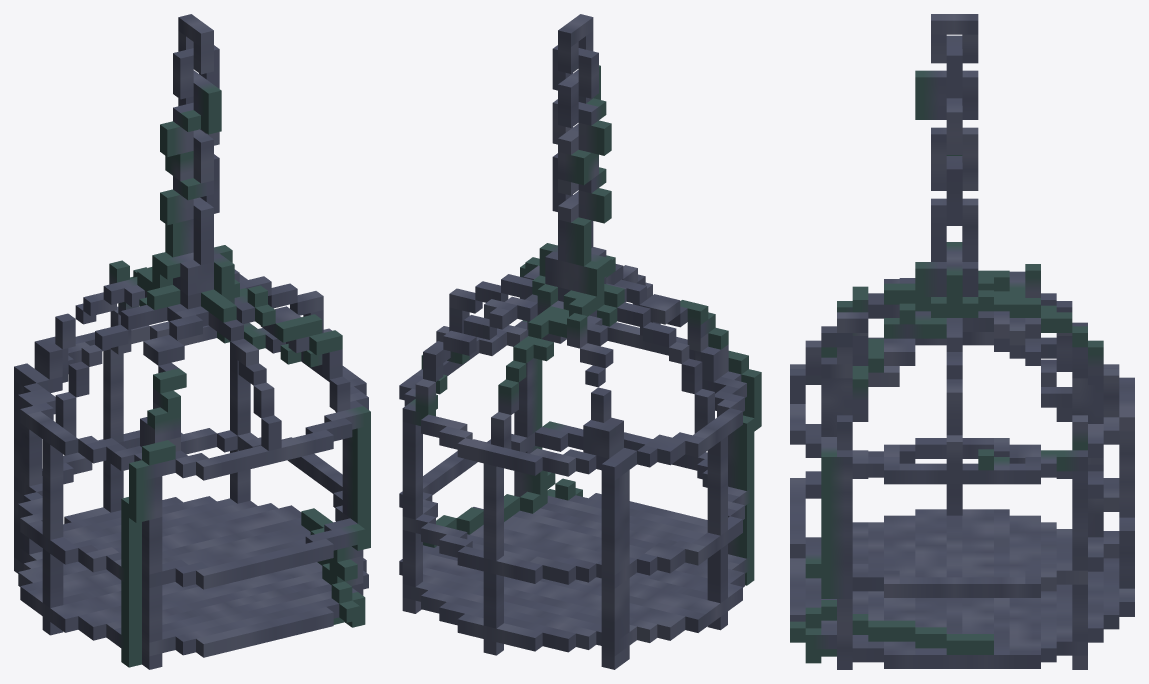
File: BirdCage_state_2.fbx
The picture shows the model from 3 angles, left to right: view 1: azimuth 30°, elevation 25°; view 2: azimuth 150°, elevation 25°; view 3: azimuth 270°, elevation 25°; orthographic projection. The views are drawn at different scales.
Parts seen in each view (by area): view 1: BirdCage_state_2; view 2: BirdCage_state_2; view 3: BirdCage_state_2.
Part boxes in pixels (x1,y1,x2,y2): BirdCage_state_2: (14, 14, 370, 669); BirdCage_state_2: (399, 14, 761, 669); BirdCage_state_2: (790, 14, 1134, 669).
Bounding box in the file's own units: 22 × 42 × 22.
1 material, 1 textured.
